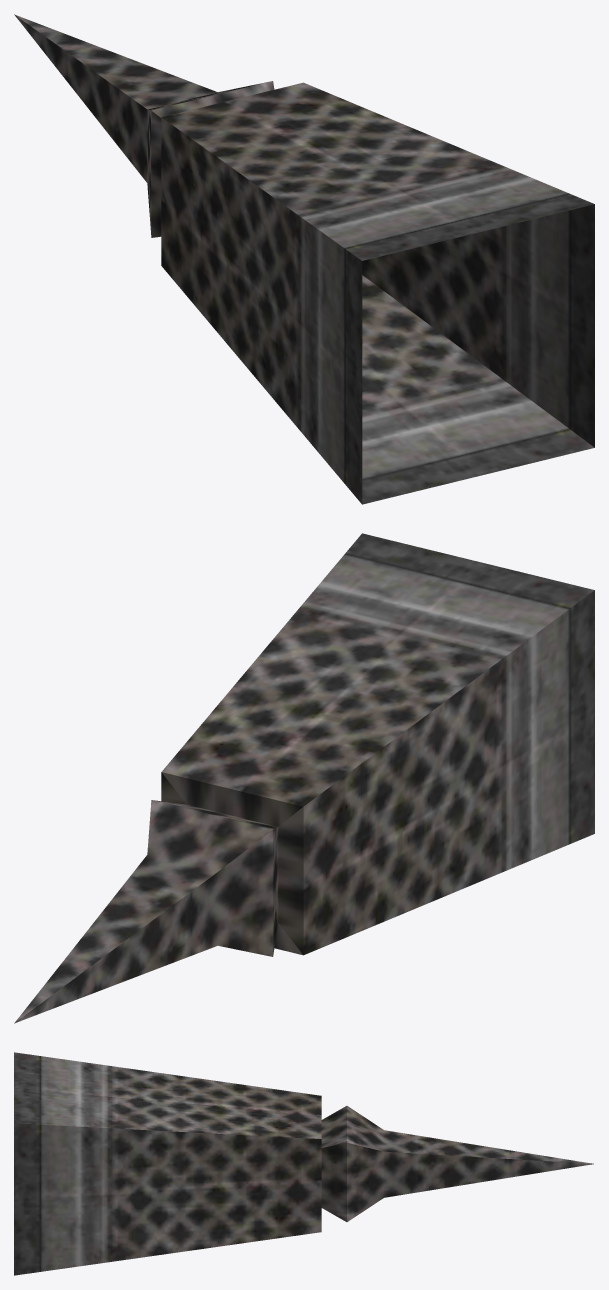
3 views of the same model, one above another, from view 1: azimuth 30°, elevation 25°; view 2: azimuth 150°, elevation 25°; view 3: azimuth 270°, elevation 25° (orthographic). The views are drawn at different scales.
Visible parts, largest first — view 1: Object49; view 2: Object49; view 3: Object49.
Part boxes in pixels (x1,y1,x2,y2): Object49: (14,14,594,504); Object49: (14,533,594,1023); Object49: (14,1052,593,1275).
Bounding box in the file's own units: 6279 × 6279 × 21702.
